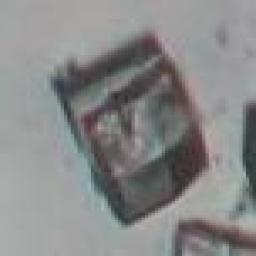crystals: (49, 32, 214, 227)
